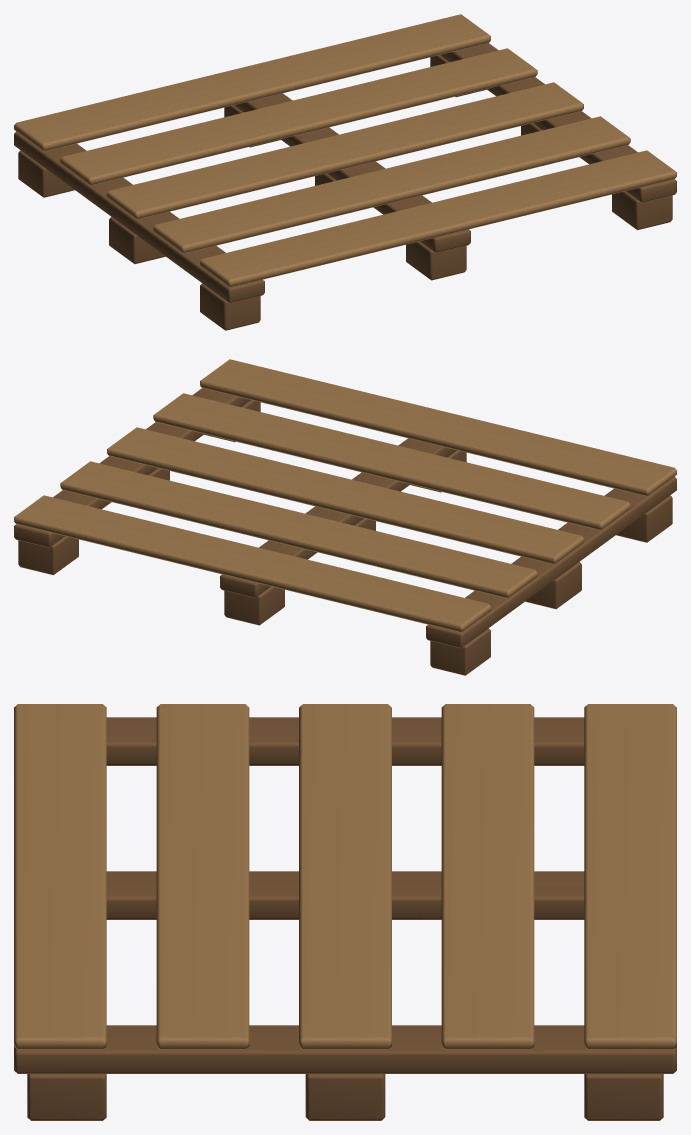
Rendered from pallet.glb.
3 views of the same model, one above another, from view 1: azimuth 30°, elevation 25°; view 2: azimuth 150°, elevation 25°; view 3: azimuth 270°, elevation 25° (orthographic). The views are drawn at different scales.
Visible parts, largest first — view 1: pallet; view 2: pallet; view 3: pallet.
Boxes of the visible parts, box(x1,y1,x2,y2) form: pallet: box(14, 14, 676, 330); pallet: box(14, 359, 676, 675); pallet: box(14, 704, 676, 1120).
Size of the model in its own units: 1.2 by 0.14 by 1.
